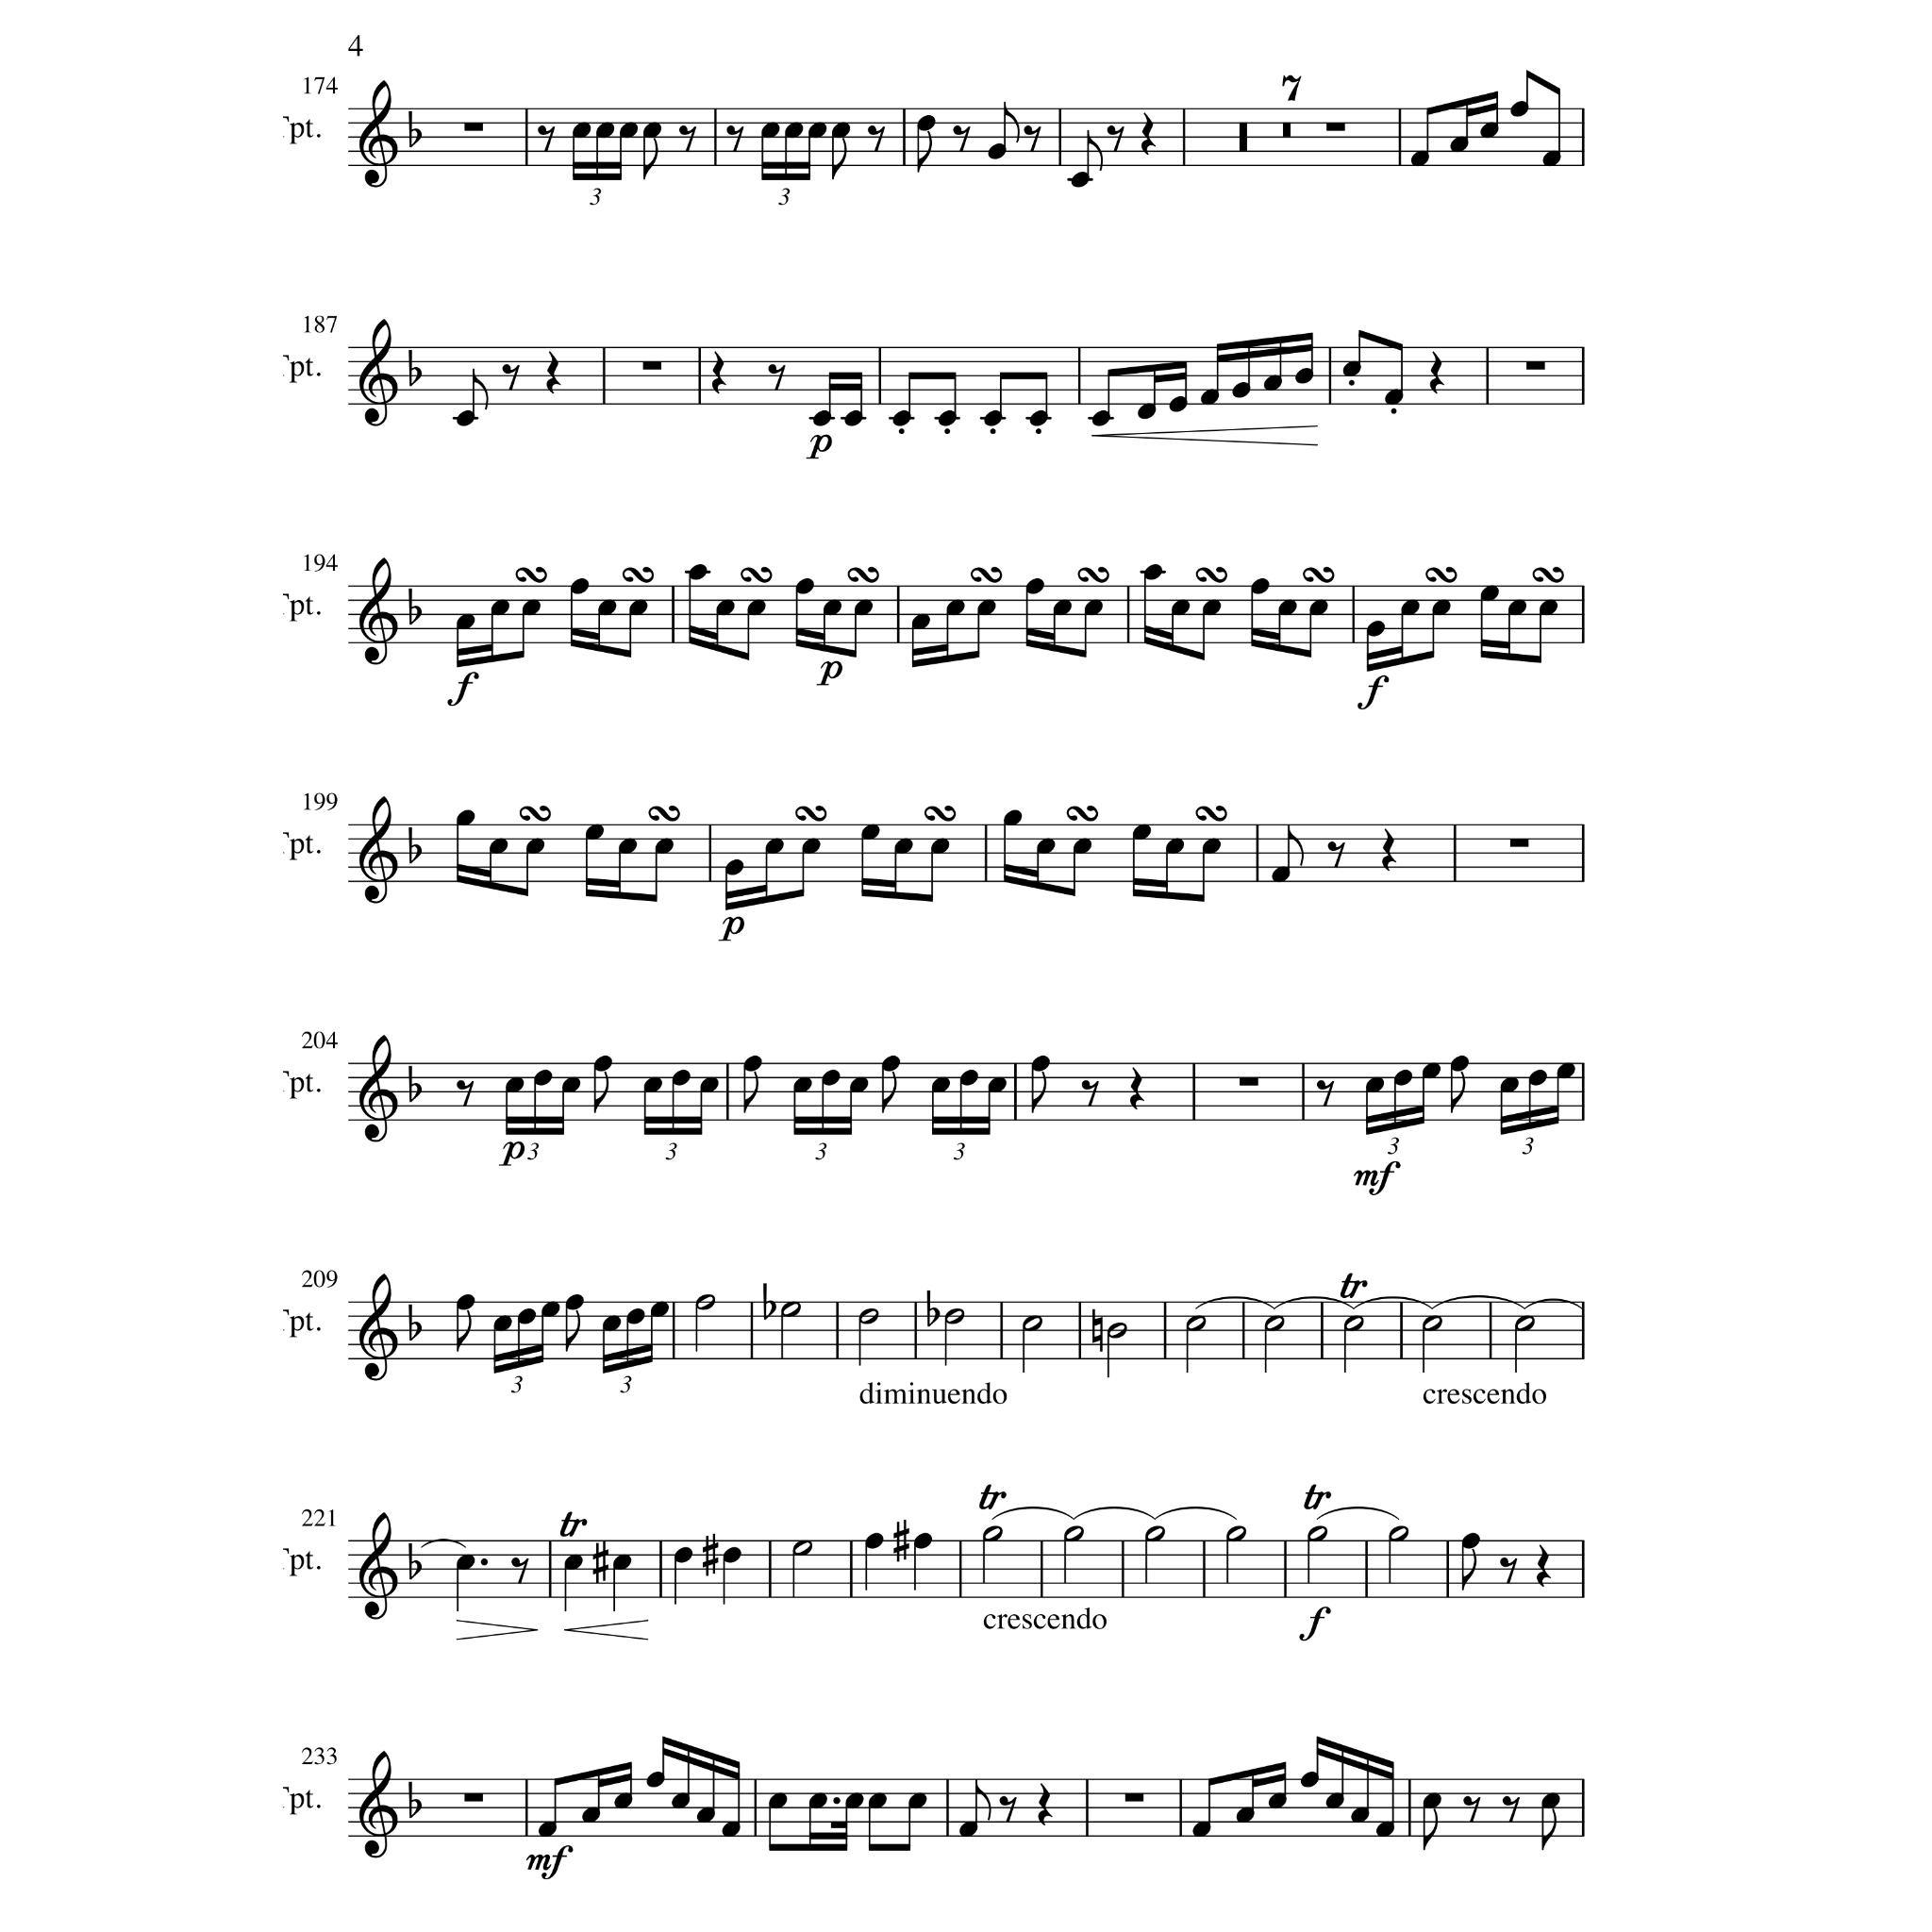flag8thDown: (832, 138, 847, 180), (916, 131, 932, 173), (1031, 1070, 1047, 1113), (743, 1070, 759, 1113), (564, 1309, 580, 1352), (456, 1309, 472, 1352), (1541, 1808, 1557, 1851), (1422, 1808, 1438, 1851), (644, 138, 658, 180), (1451, 1070, 1465, 1113), (594, 1070, 609, 1113), (883, 1070, 897, 1113), (1461, 1548, 1476, 1591)
flag8thUp: (1088, 131, 1104, 173), (1005, 101, 1021, 143), (472, 368, 488, 410), (1288, 826, 1304, 867), (975, 1780, 991, 1821)
gClef: (359, 1511, 398, 1621), (359, 1750, 398, 1859), (359, 81, 398, 189), (359, 318, 398, 426), (359, 557, 398, 665), (359, 796, 398, 904), (359, 1035, 398, 1143), (359, 1274, 398, 1382)
noteheadBlack: (1479, 122, 1500, 140), (571, 122, 593, 140), (830, 122, 851, 140), (759, 122, 780, 140), (1168, 396, 1189, 414), (1028, 410, 1049, 428), (812, 410, 833, 428), (842, 410, 863, 428), (1169, 598, 1191, 616), (1083, 598, 1104, 616), (1537, 598, 1559, 616), (1479, 586, 1500, 603), (628, 598, 649, 616), (584, 823, 605, 840), (929, 837, 950, 855), (642, 1076, 663, 1093), (699, 1076, 720, 1093), (612, 1553, 633, 1571), (1299, 1771, 1320, 1789), (1267, 1792, 1288, 1810), (1539, 1792, 1560, 1810), (1323, 1792, 1345, 1810), (844, 1792, 865, 1810), (957, 1821, 978, 1838), (987, 143, 1007, 161), (1070, 172, 1090, 189), (1509, 101, 1529, 119), (1541, 150, 1560, 168), (1410, 150, 1430, 168), (1449, 136, 1468, 154), (596, 122, 616, 140), (642, 122, 662, 140), (784, 122, 803, 140), (807, 122, 826, 140), (916, 115, 936, 133), (1200, 389, 1219, 407), (1231, 382, 1251, 400), (1293, 368, 1313, 386), (1092, 410, 1111, 428), (1138, 403, 1157, 421), (1384, 389, 1403, 407), (455, 410, 474, 428), (938, 410, 957, 428), (984, 410, 1003, 428), (892, 410, 911, 428), (1201, 598, 1221, 616), (1307, 598, 1327, 616), (1277, 598, 1297, 616), (1053, 598, 1072, 616), (1507, 598, 1527, 616), (1399, 598, 1419, 616), (1431, 598, 1451, 616), (598, 598, 617, 616), (522, 598, 541, 616), (490, 598, 510, 616), (853, 598, 872, 616), (977, 598, 996, 616), (947, 598, 966, 616), (747, 598, 766, 616), (823, 598, 842, 616), (1072, 837, 1092, 855), (1132, 823, 1152, 840), (1164, 837, 1184, 855), (1201, 837, 1221, 855), (1037, 837, 1056, 855), (1270, 865, 1290, 883), (525, 837, 545, 855), (617, 837, 637, 855), (655, 837, 674, 855), (455, 809, 474, 826), (893, 837, 913, 855), (764, 837, 784, 855), (862, 823, 881, 840), (801, 837, 821, 855), (1364, 1076, 1384, 1093), (1421, 1062, 1440, 1079), (1500, 1076, 1520, 1093), (1557, 1062, 1576, 1079), (563, 1076, 582, 1093), (987, 1076, 1007, 1093), (504, 1076, 524, 1093), (849, 1076, 869, 1093), (931, 1076, 950, 1093), (793, 1076, 812, 1093), (602, 1315, 621, 1332), (540, 1300, 559, 1318), (649, 1300, 669, 1318), (494, 1315, 513, 1332), (1461, 1532, 1481, 1550), (674, 1546, 694, 1564), (564, 1553, 584, 1571), (455, 1553, 474, 1571), (913, 1532, 932, 1550), (722, 1546, 741, 1564), (865, 1532, 885, 1550), (1235, 1806, 1254, 1824), (1191, 1821, 1210, 1838), (1375, 1821, 1394, 1838), (1350, 1806, 1369, 1824), (1422, 1792, 1442, 1810), (646, 1771, 665, 1789), (614, 1792, 633, 1810), (582, 1806, 602, 1824), (695, 1806, 715, 1824), (722, 1821, 741, 1838), (671, 1792, 690, 1810), (538, 1821, 557, 1838), (867, 1792, 886, 1810), (809, 1792, 828, 1810), (908, 1792, 927, 1810), (768, 1792, 787, 1810), (1341, 361, 1362, 377), (1024, 579, 1046, 594), (671, 1070, 692, 1086), (619, 122, 637, 140), (717, 598, 734, 616), (1003, 809, 1021, 826), (490, 837, 508, 855), (1263, 375, 1283, 391), (1251, 579, 1270, 594), (1143, 564, 1162, 580), (1366, 621, 1385, 637), (570, 579, 589, 594), (688, 564, 708, 580), (455, 614, 474, 630), (911, 614, 931, 630), (794, 579, 814, 594), (724, 860, 743, 876), (1031, 1056, 1051, 1072), (1449, 1056, 1468, 1072), (1392, 1070, 1412, 1086), (1529, 1070, 1548, 1086), (593, 1056, 612, 1072), (743, 1056, 763, 1072), (534, 1070, 554, 1086), (821, 1070, 840, 1086), (881, 1056, 901, 1072), (959, 1070, 978, 1086), (564, 1295, 584, 1311), (626, 1309, 646, 1325), (455, 1295, 474, 1311), (517, 1309, 536, 1325)
noteheadHalf: (1263, 1315, 1284, 1332), (1021, 1315, 1042, 1332), (1514, 1315, 1536, 1332), (1343, 1315, 1364, 1332), (780, 1300, 801, 1318), (1306, 1525, 1327, 1543), (1063, 1525, 1085, 1543), (1145, 1525, 1166, 1543), (1387, 1525, 1408, 1543), (982, 1525, 1003, 1543), (793, 1539, 814, 1557), (1185, 1315, 1205, 1332), (1422, 1315, 1442, 1332), (1226, 1525, 1246, 1543), (1106, 1323, 1127, 1339), (694, 1295, 715, 1311), (858, 1309, 879, 1325), (943, 1309, 964, 1325)
rest8th: (1106, 126, 1125, 154), (725, 126, 745, 154), (678, 126, 697, 154), (536, 126, 556, 154), (867, 126, 886, 154), (766, 364, 786, 393), (998, 1796, 1017, 1824), (1461, 1796, 1481, 1824), (952, 126, 970, 154), (1023, 126, 1040, 154), (502, 364, 520, 393), (1327, 842, 1345, 870), (1316, 1079, 1334, 1108), (1081, 1079, 1099, 1108), (456, 1079, 474, 1108), (1500, 1557, 1518, 1585), (511, 1557, 529, 1585), (1502, 1796, 1520, 1824)
restHNr: (1281, 74, 1302, 104)
restQuarter: (545, 350, 563, 395), (1037, 1782, 1053, 1828), (1139, 113, 1155, 157), (1430, 350, 1445, 395), (711, 350, 727, 395), (1380, 828, 1396, 872), (1129, 1067, 1145, 1111), (1536, 1545, 1552, 1587)
restWhole: (1238, 122, 1345, 152), (464, 122, 483, 133), (642, 361, 662, 372), (1525, 361, 1545, 372), (1123, 1794, 1145, 1803), (1509, 839, 1529, 847), (1238, 1077, 1258, 1086), (464, 1794, 483, 1803)
